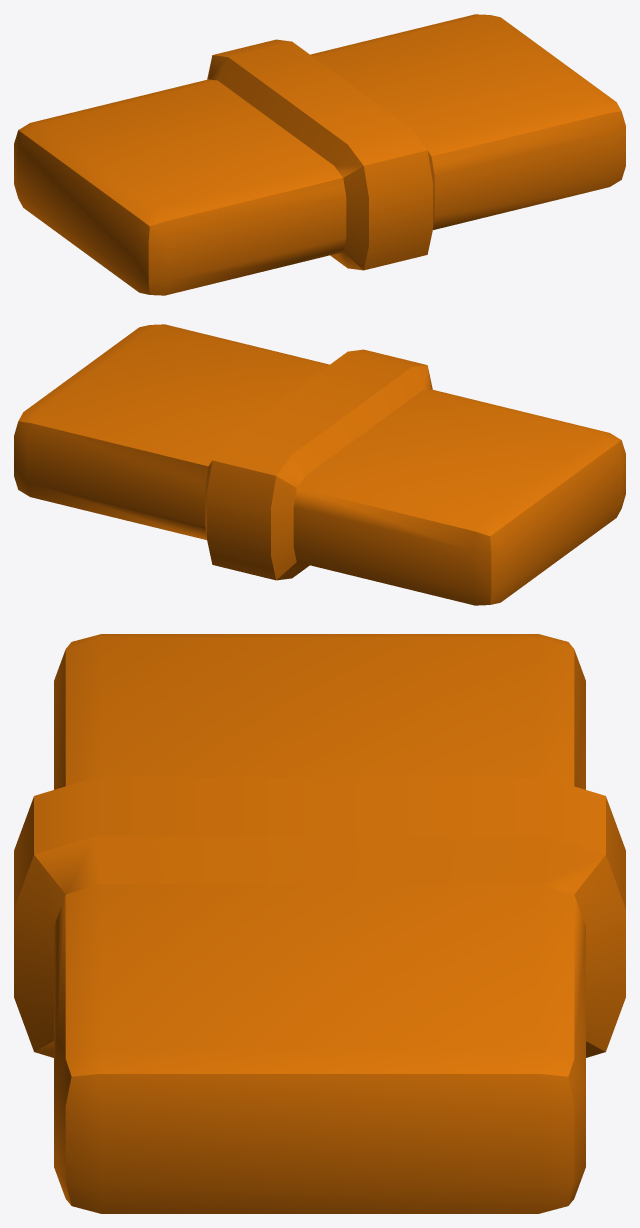
File: SM_Bill02.fbx
The picture shows the model from 3 angles, top to bottom: view 1: azimuth 30°, elevation 25°; view 2: azimuth 150°, elevation 25°; view 3: azimuth 270°, elevation 25°; orthographic projection. The views are drawn at different scales.
Visible parts, largest first — view 1: SM_Bill02; view 2: SM_Bill02; view 3: SM_Bill02.
Boxes of the visible parts, left/top/right/bottom form: SM_Bill02: left=14, top=14, right=625, bottom=295; SM_Bill02: left=14, top=324, right=625, bottom=605; SM_Bill02: left=14, top=634, right=625, bottom=1213.
Size of the model in its own units: 50.8 by 12.31 by 29.22.
